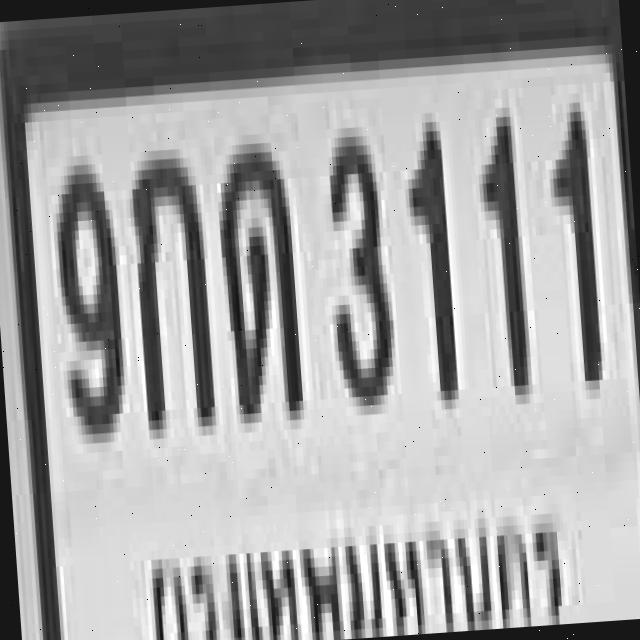1: (400, 112, 455, 402), (544, 98, 599, 386), (474, 106, 528, 386)
10GorGai: (126, 143, 212, 425)
29DorDek: (213, 133, 300, 414)
3: (319, 126, 391, 398)
9: (48, 154, 124, 436)
